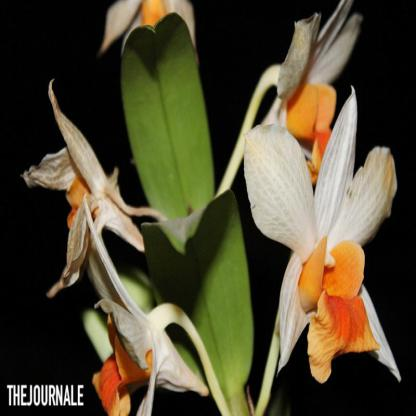ANGGREK: (30, 13, 391, 382)
